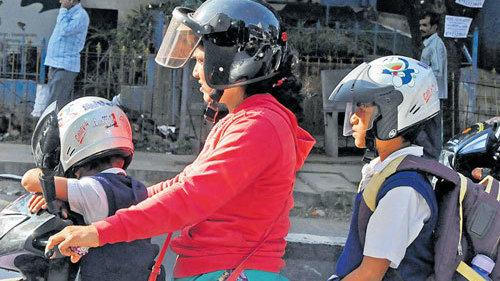helmet: (159, 0, 284, 112), (324, 50, 434, 146), (23, 91, 137, 169)
